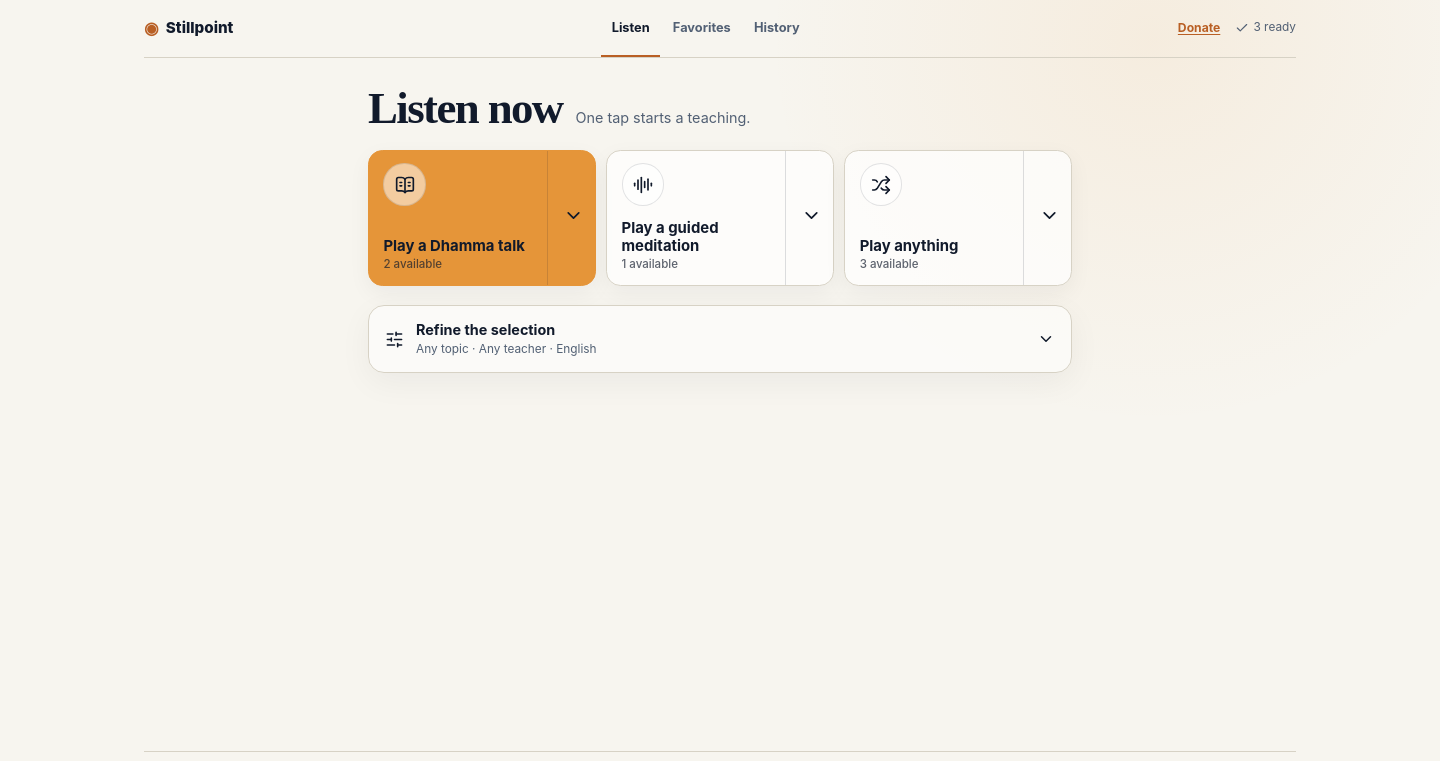
Scenario: ListenerApp › treats every topic equally and combines searchable topic and teacher refinements
Click the text "Refine the selection" at (486, 330), box [416,321,555,338]
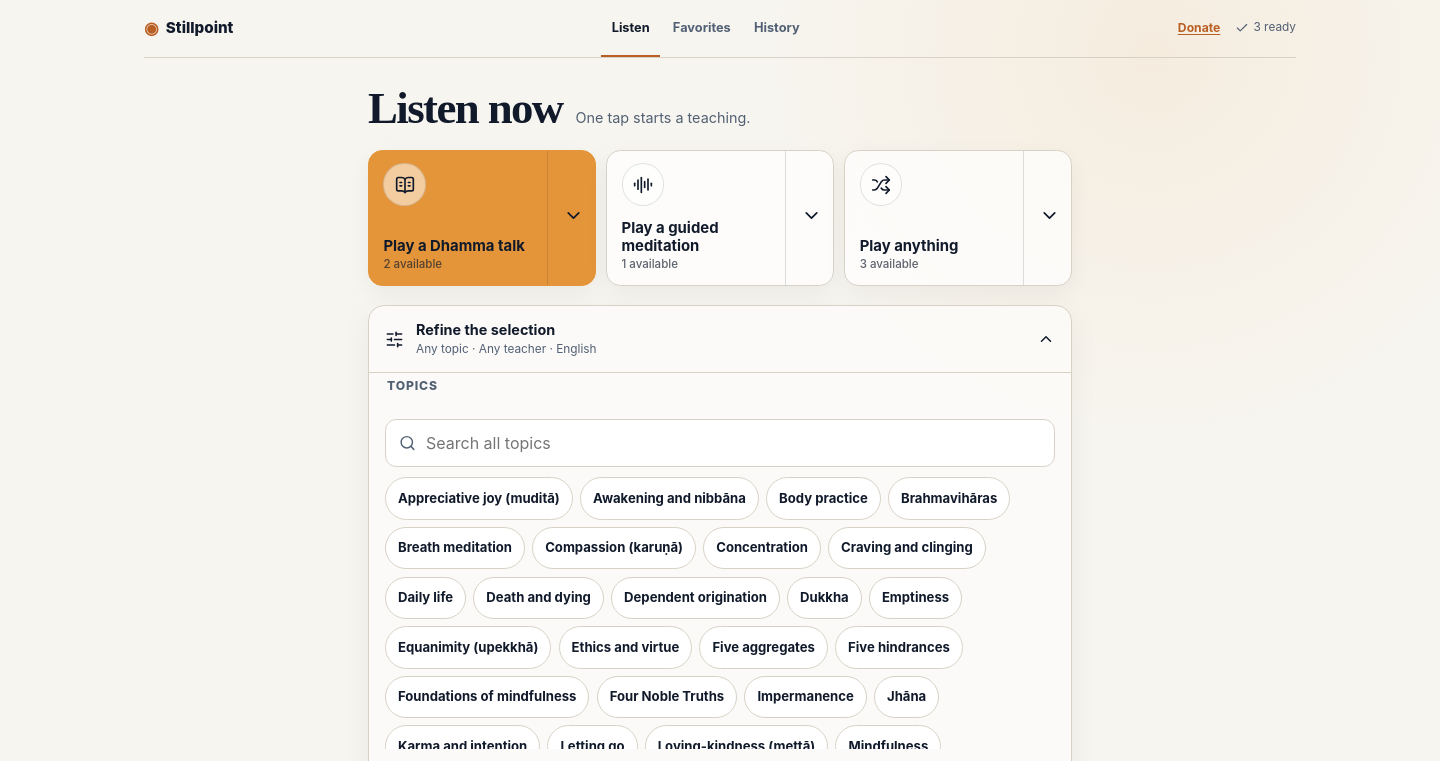
Result: the checkbox labelled "Four Noble Truths" is shown at [597,676,737,718]
Type "anatta" into the search field named "Search topics" at (720, 443), box [385,419,1055,467]
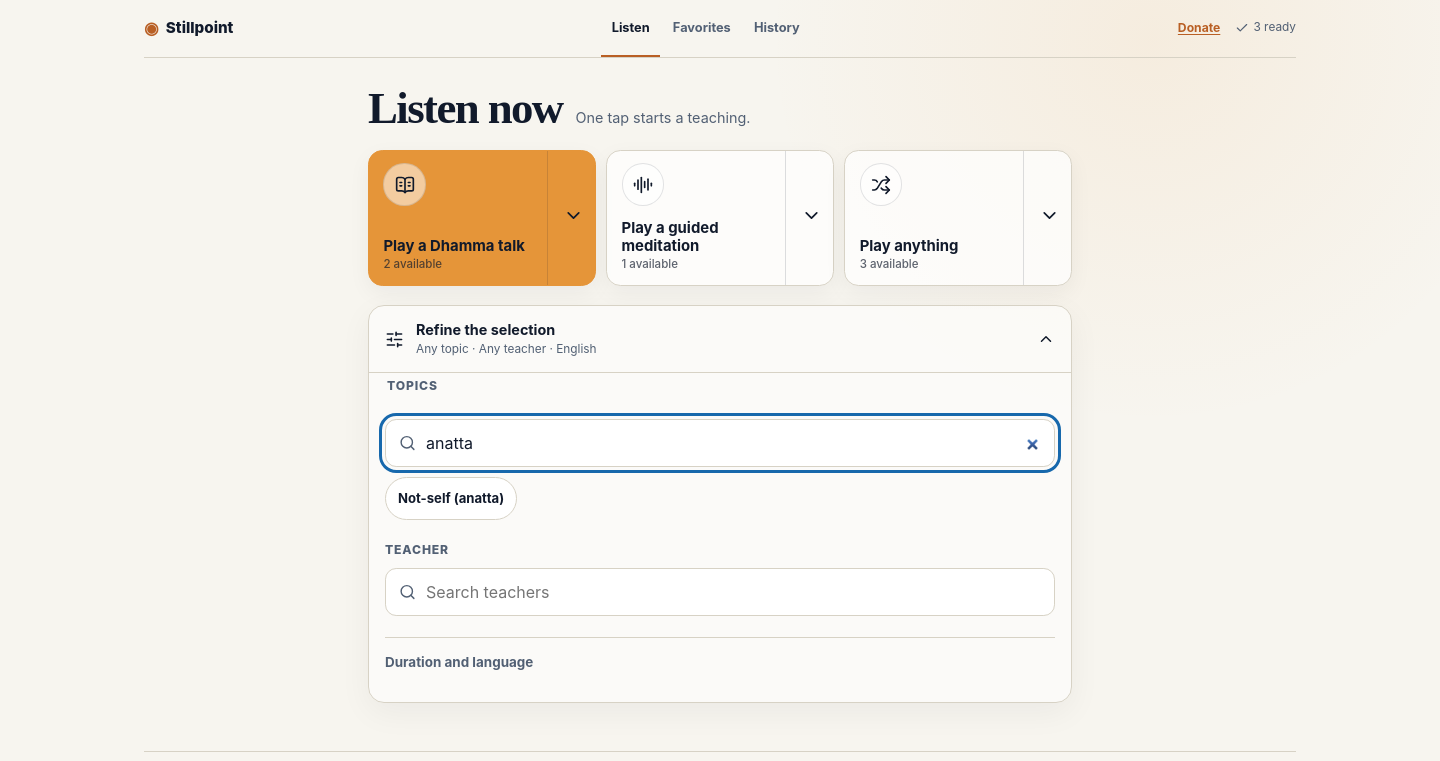
Click the checkbox labelled "Not-self (anatta)" at (451, 499), box [385,477,517,520]
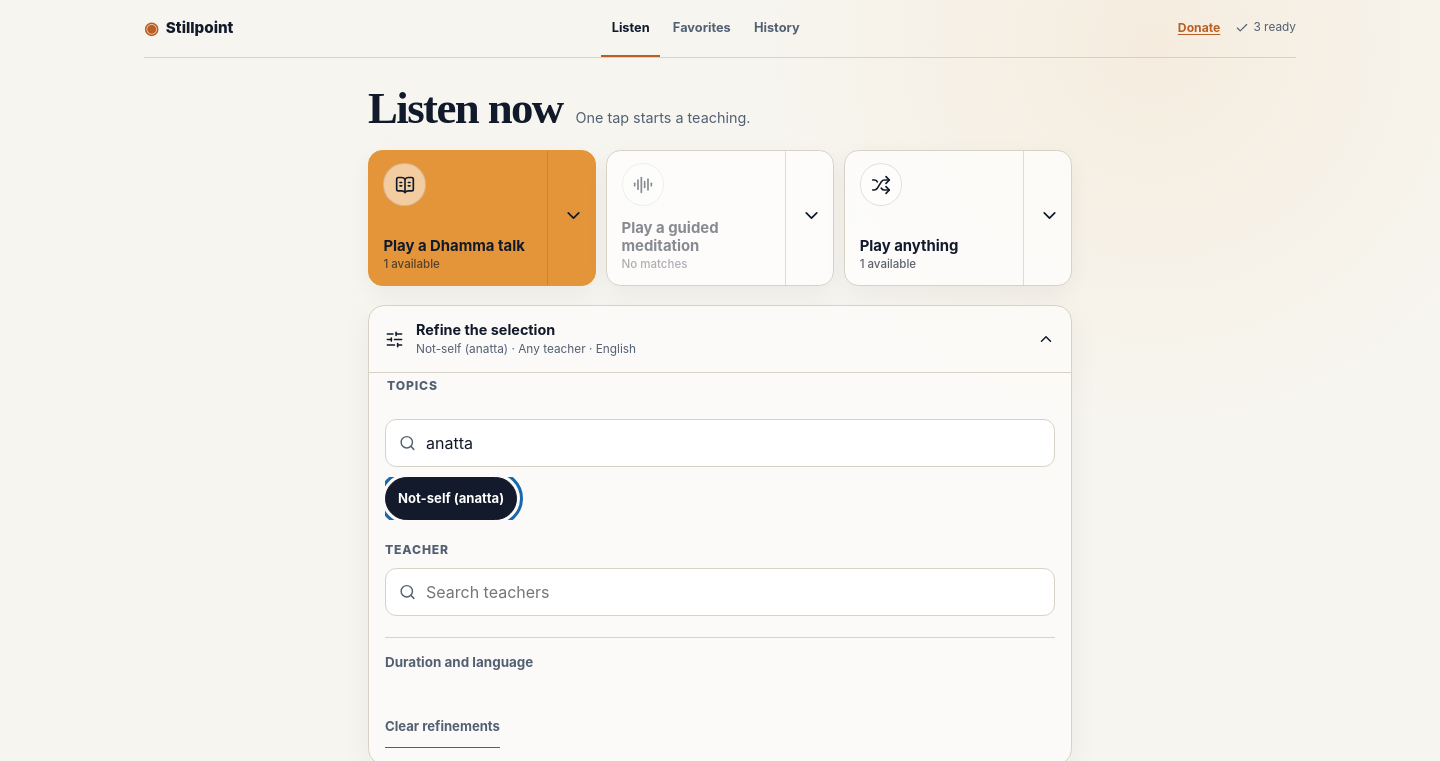
Type "Test" into the search field labelled "Teacher" at (720, 592), box [385,568,1055,616]
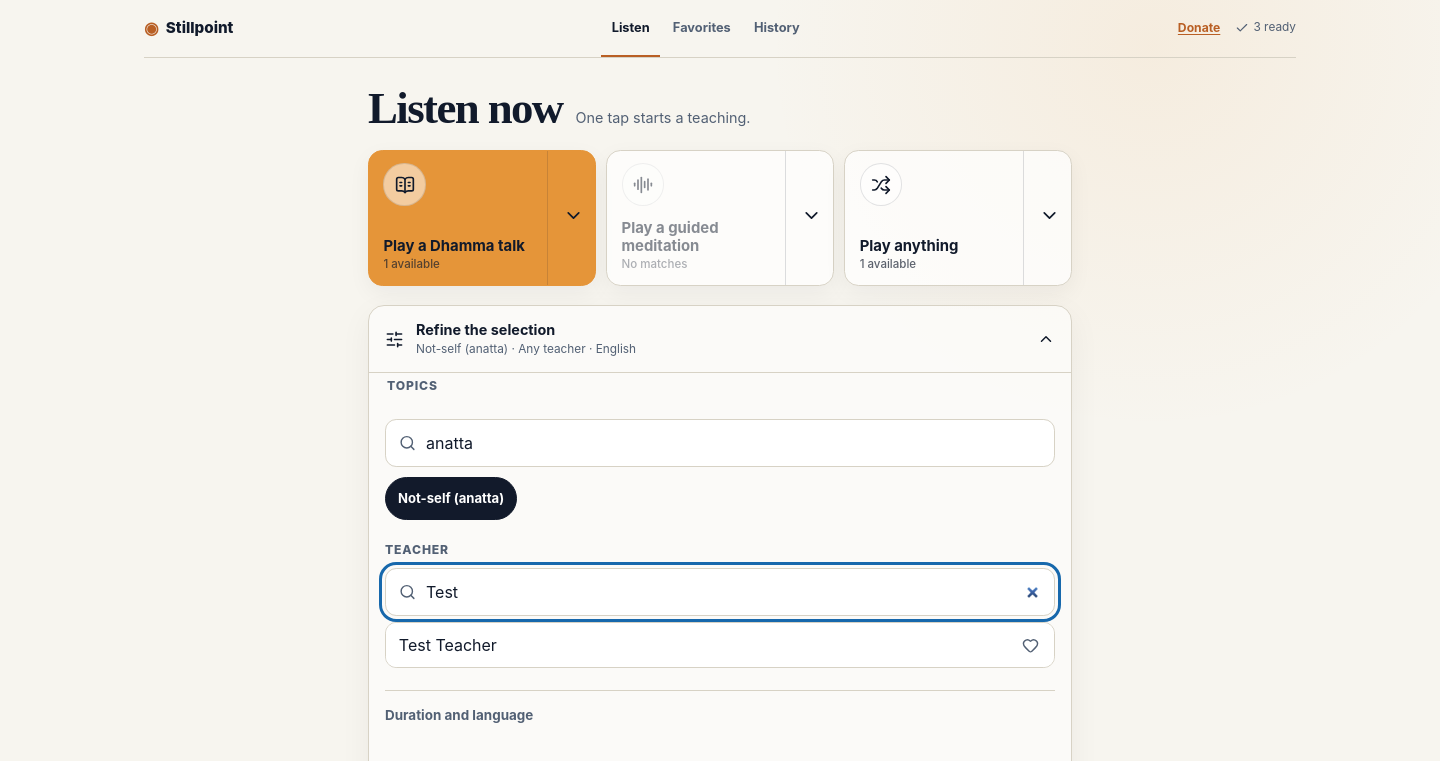
Click the button "Test Teacher" at (448, 645), box [386,623,1006,667]
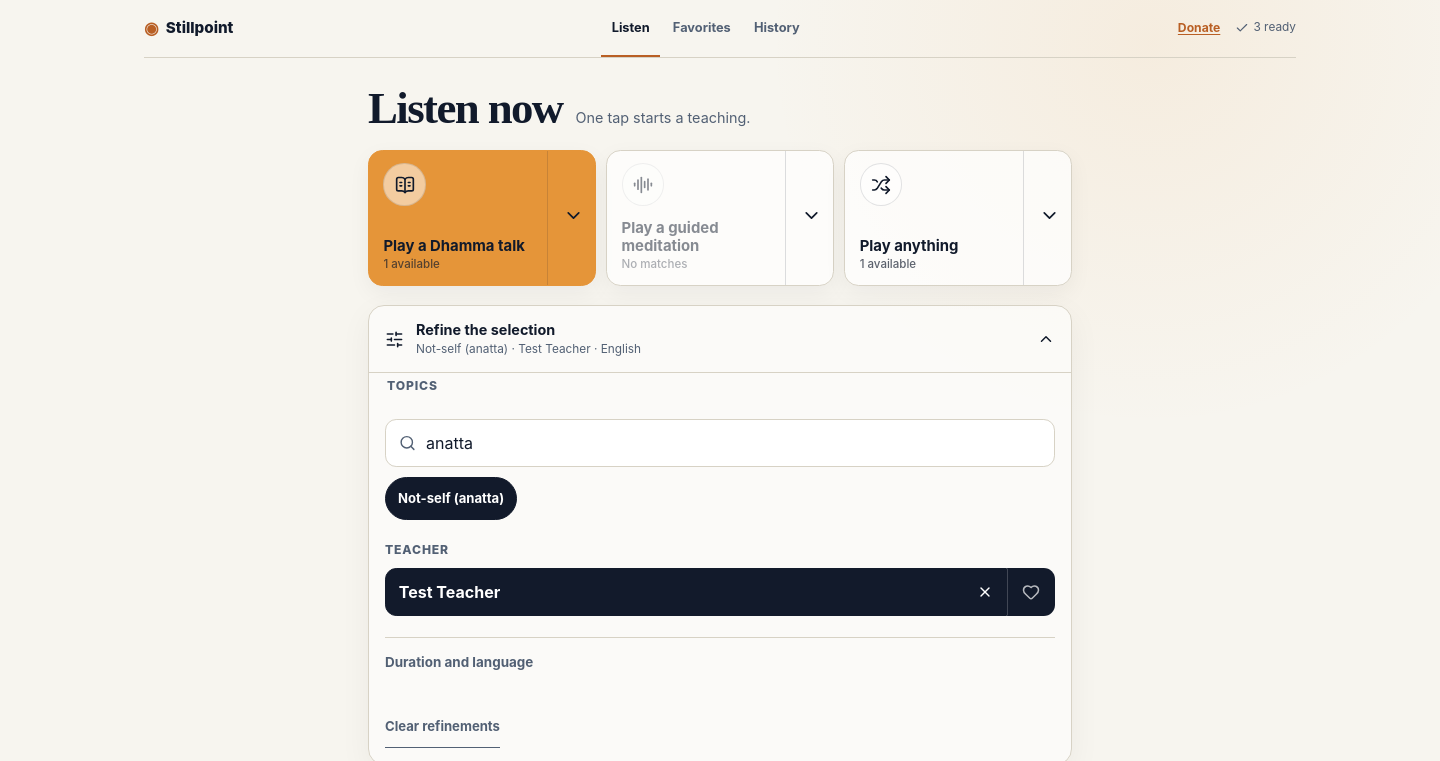
Click the button named "Add Test Teacher to favorite teachers" at (1031, 592), box [1007,568,1055,616]
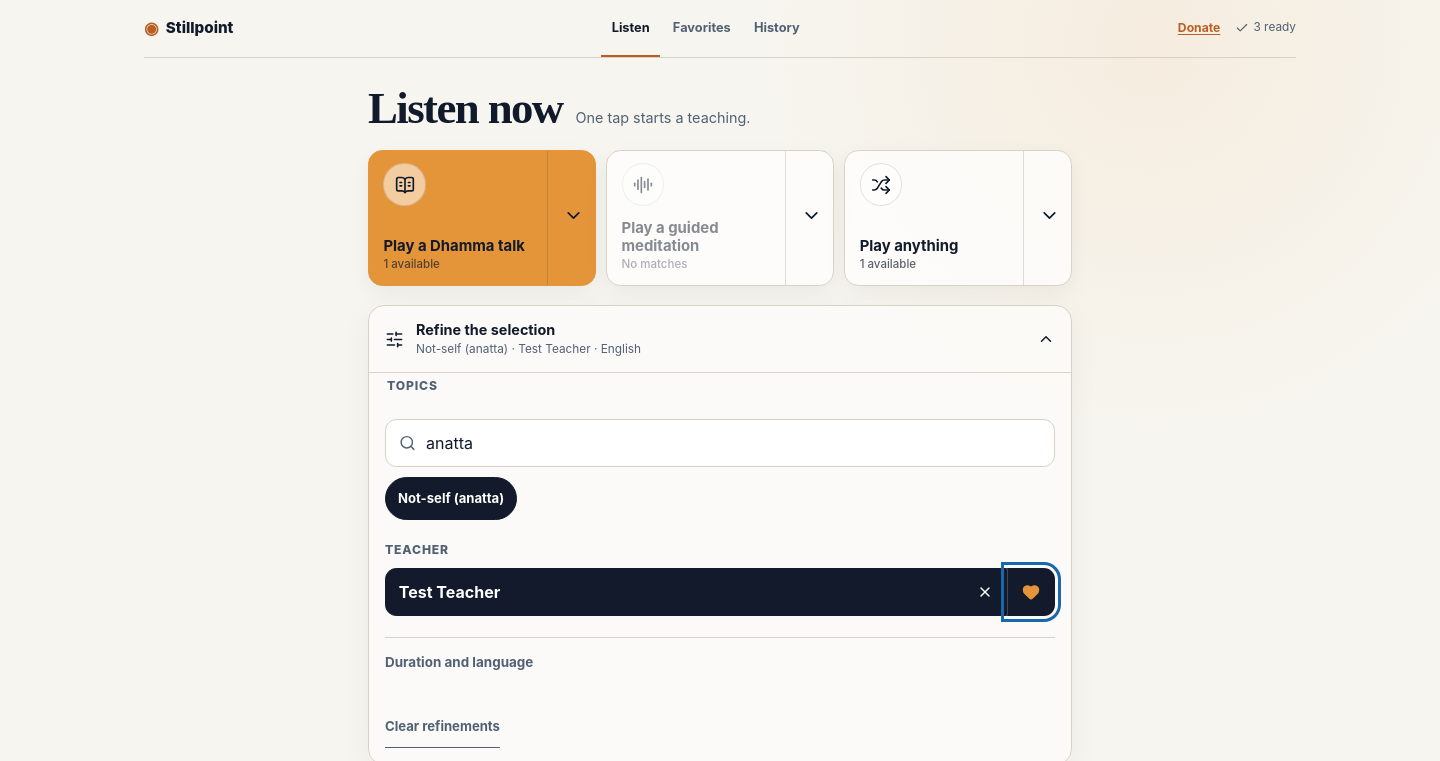
Result: the 1st text "1 available" is shown at [383,257,440,271]
Result: the button named "Remove Test Teacher from favorite teachers" is shown at [1007,568,1055,616]
